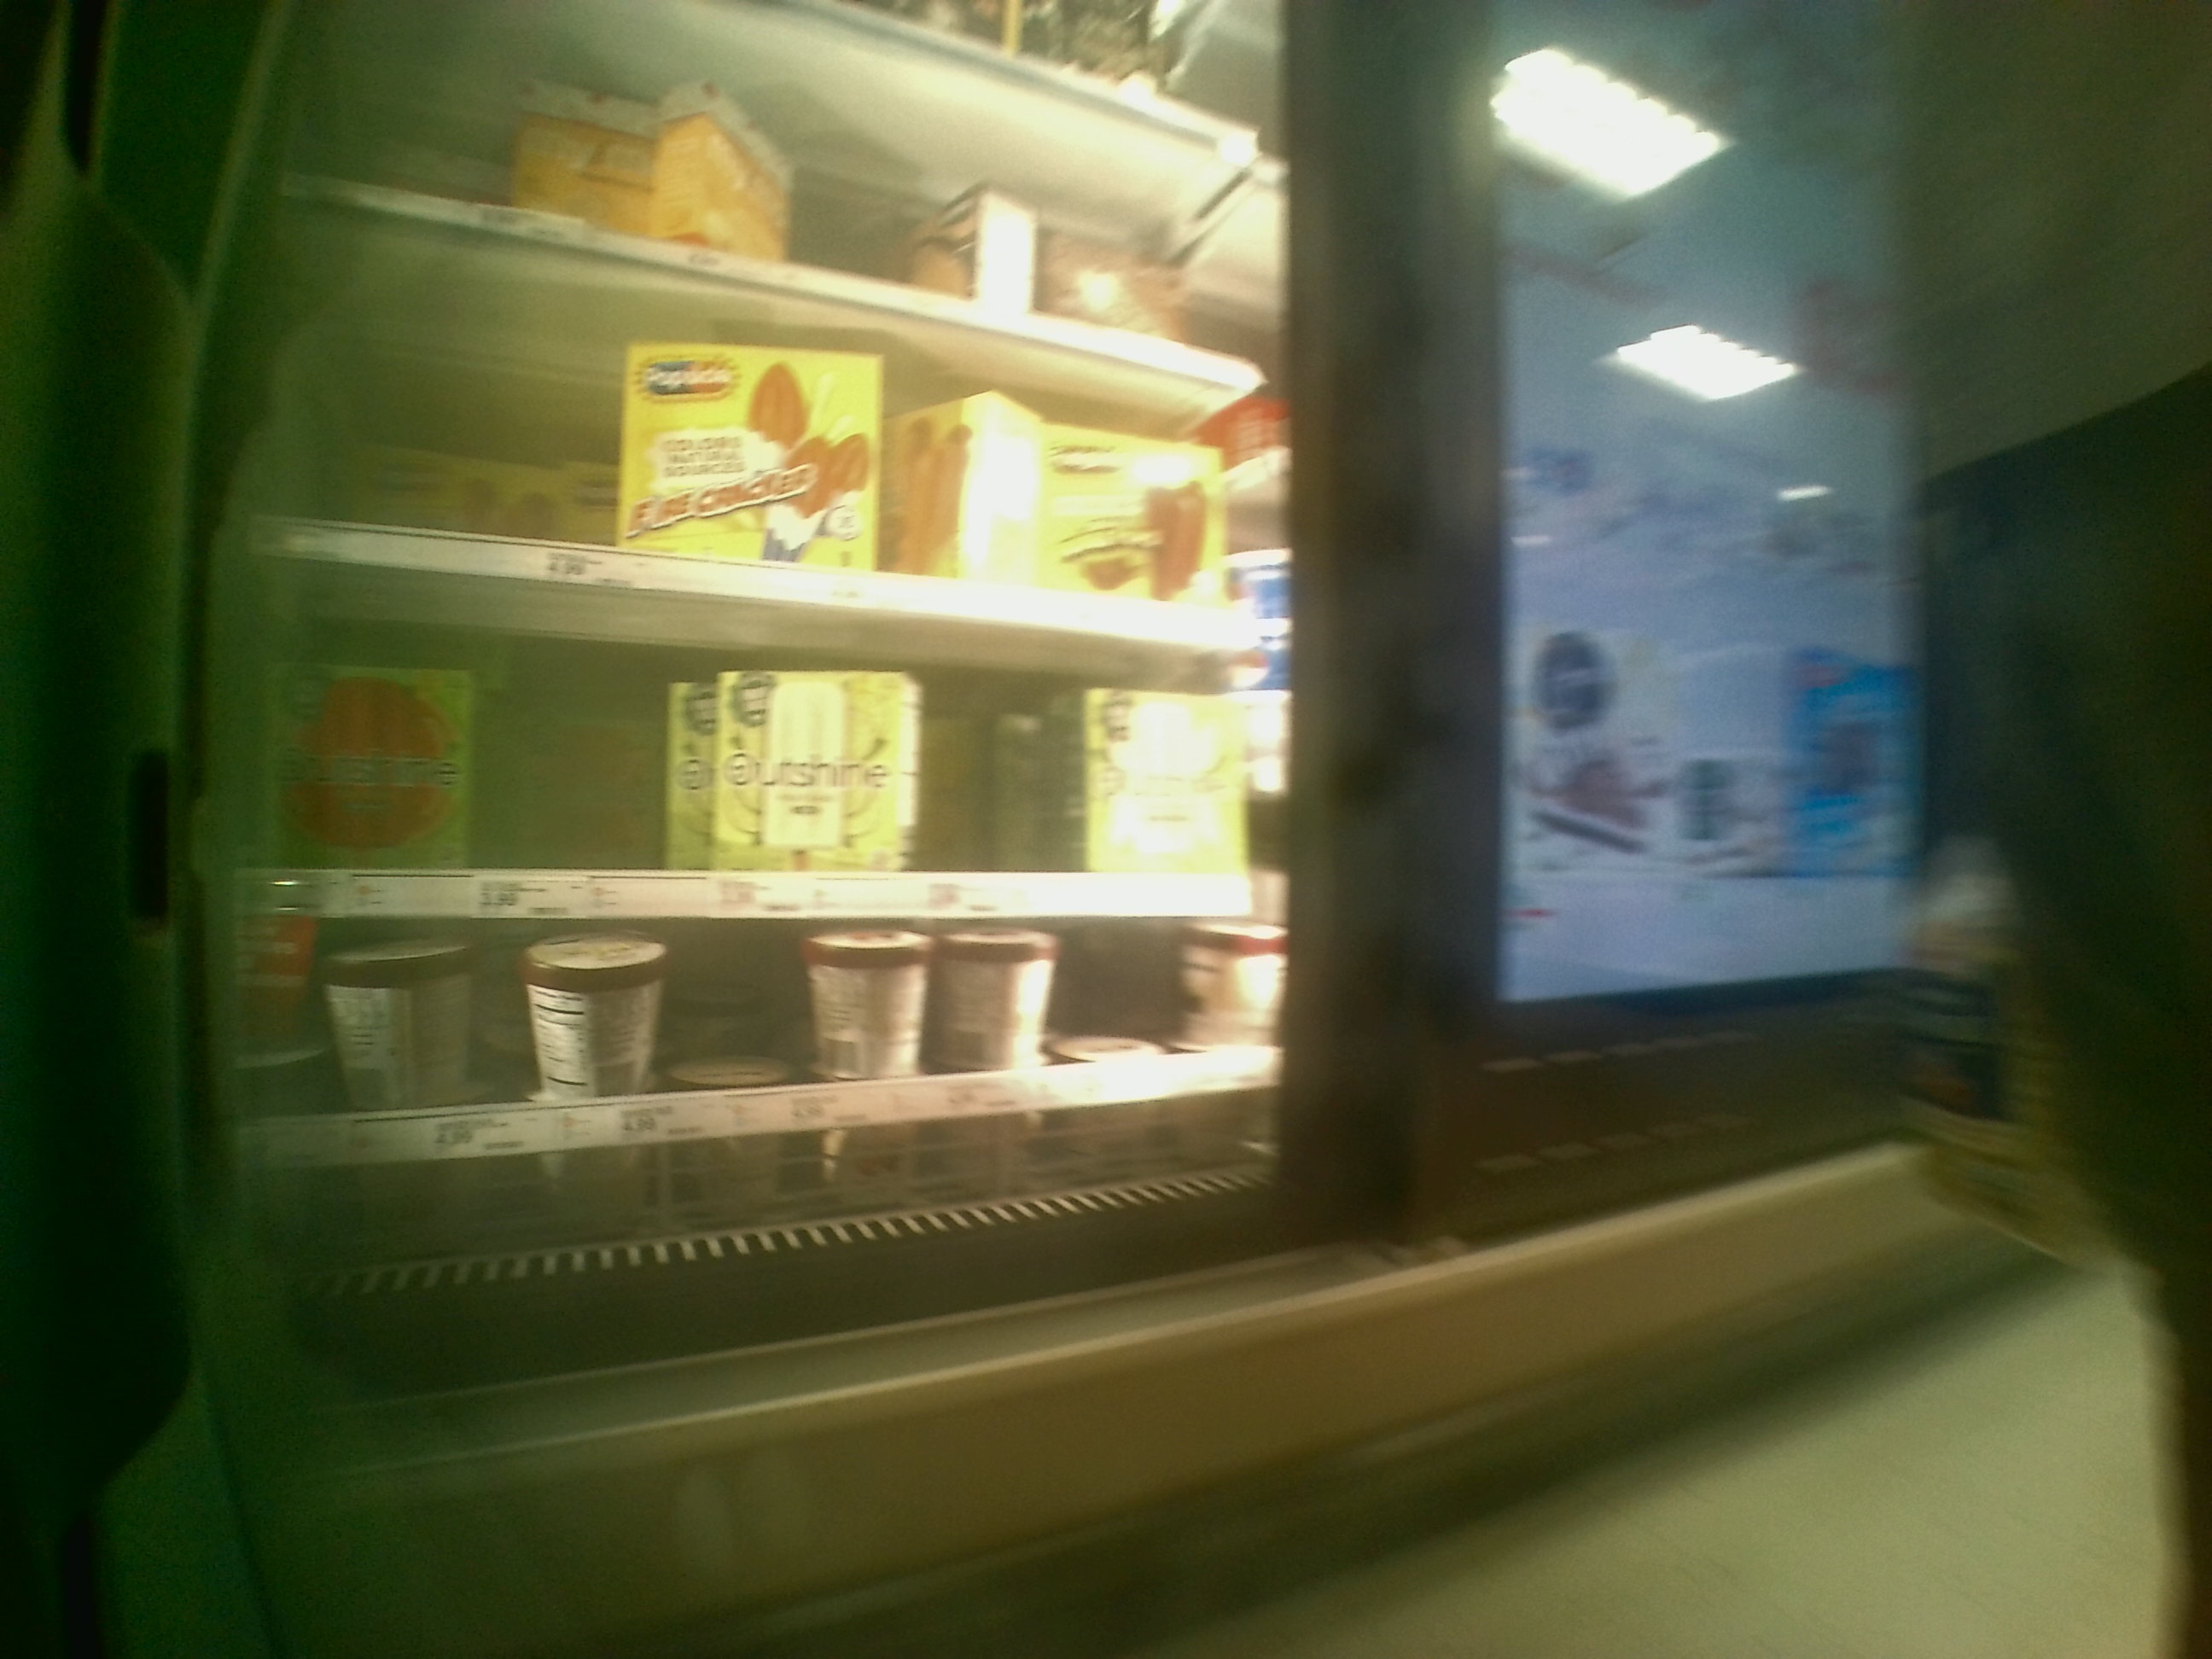ice-cream-shelf: (221, 915, 1282, 1154)
